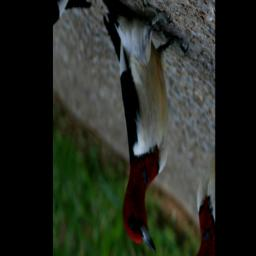Woodpecker: (63, 0, 202, 256)
